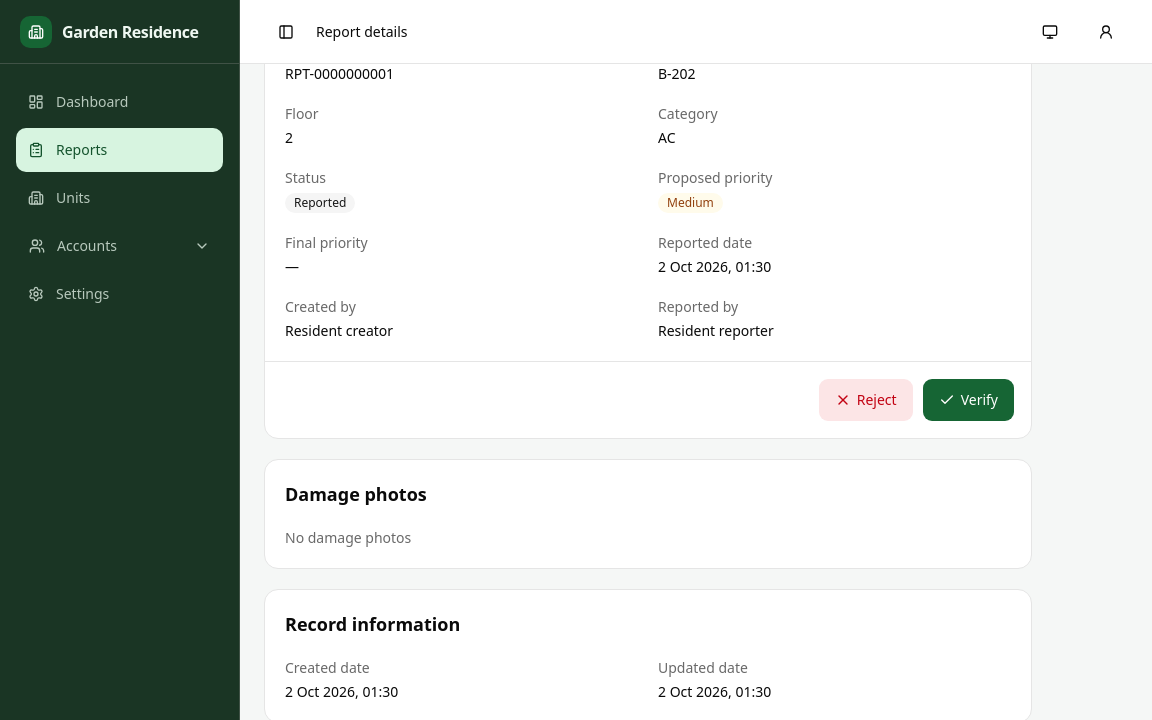
it: submits Reject, updates details, retains source state and focuses the heading
The width and height of the screenshot is (1152, 720).
(page scrolled)
Click the button "Reject" at (866, 400), box [818, 378, 914, 422]
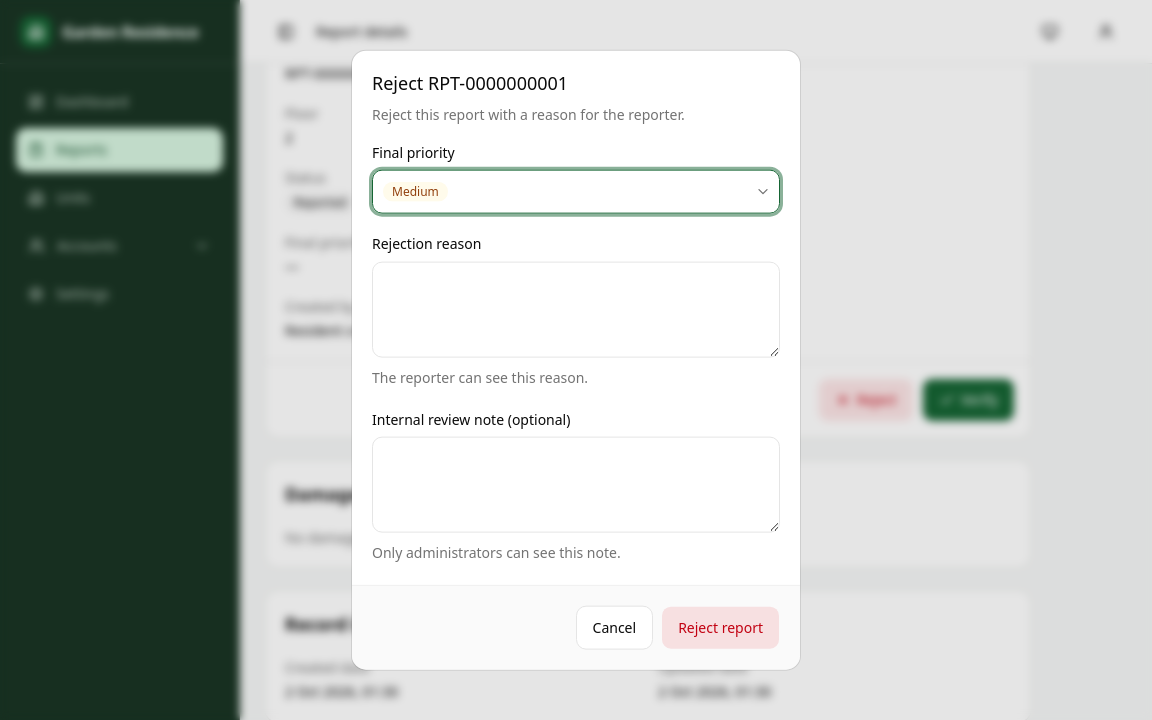
Click the dropdown labelled "Medium ▼" at (415, 192), box [372, 170, 780, 214]
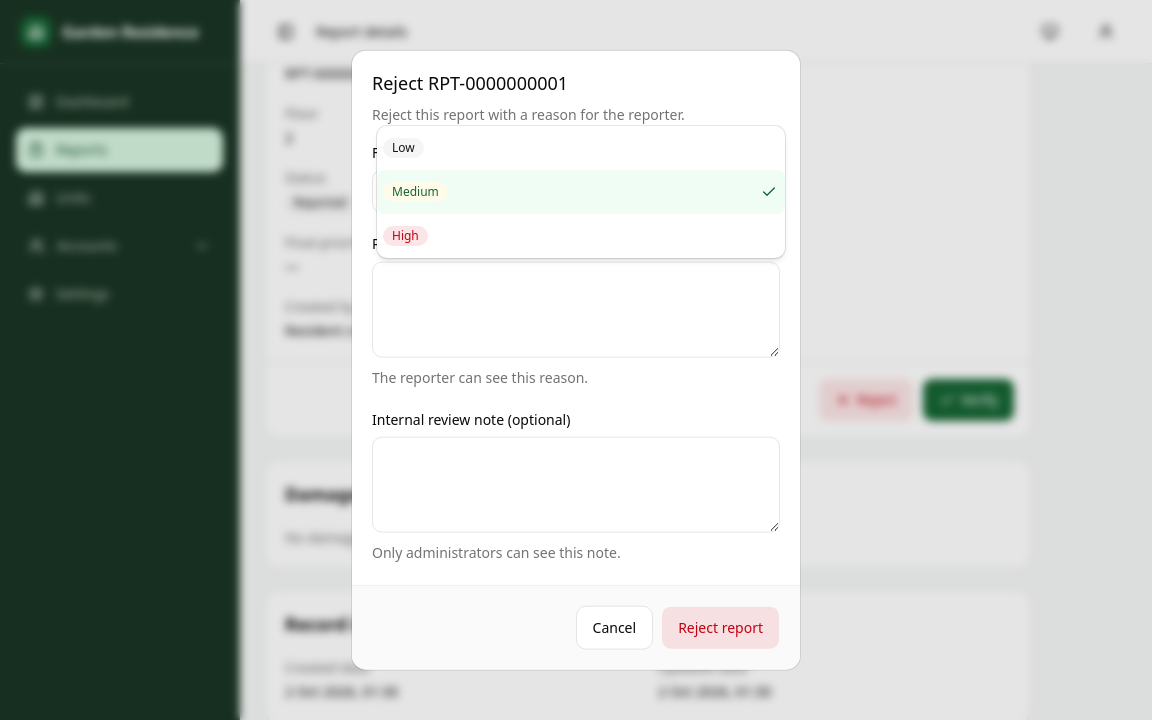
Click the option "High" at (405, 236), box [383, 226, 428, 246]
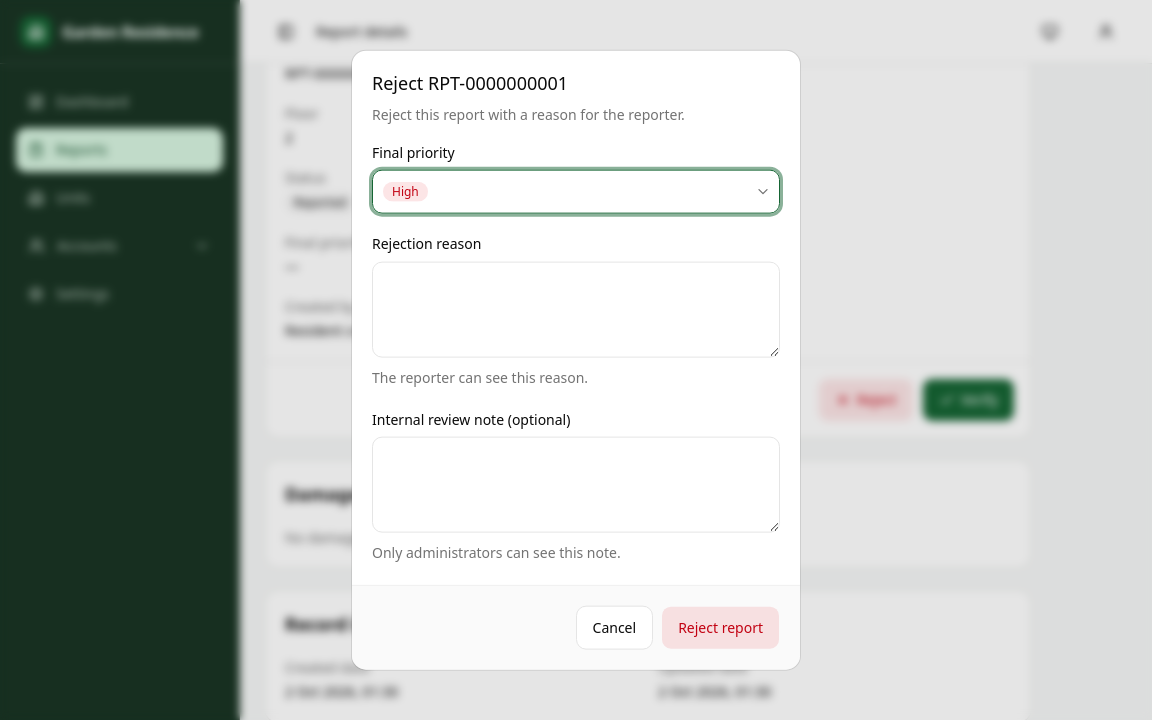
Type "  Duplicate report.  " into the text box labelled "Rejection reason" at (576, 309), box [372, 261, 780, 357]
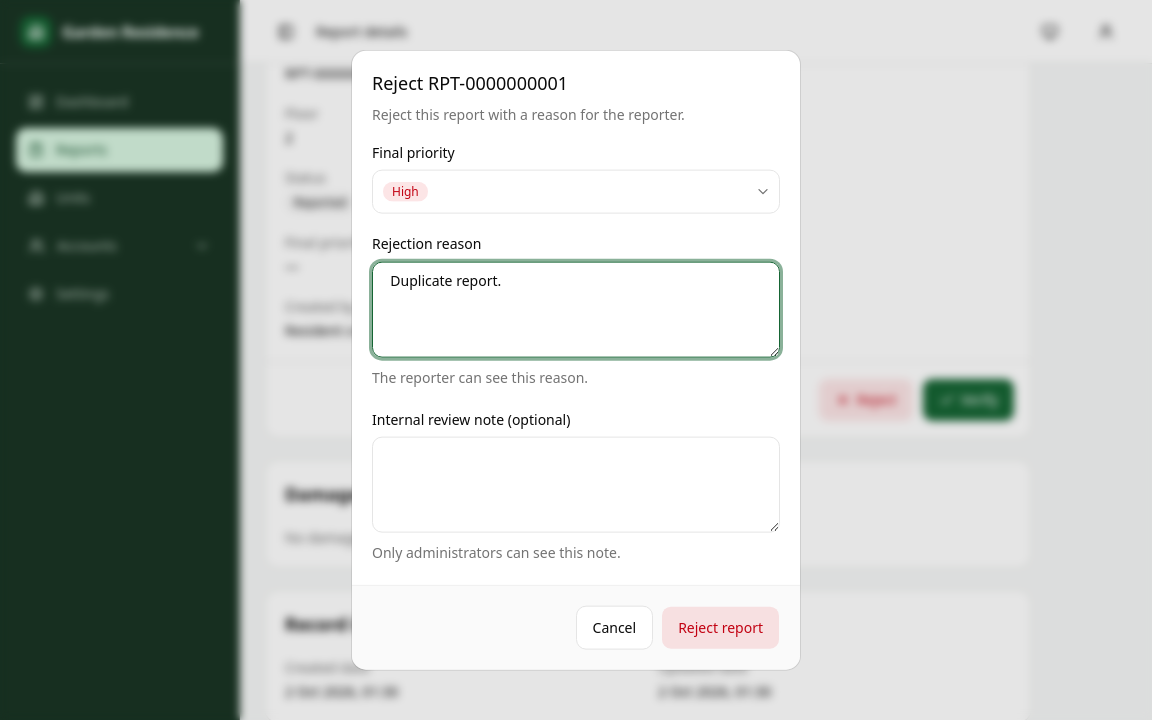
Type "  Internal note.  " into the text box labelled "Internal review note (optional)" at (576, 484), box [372, 436, 780, 532]
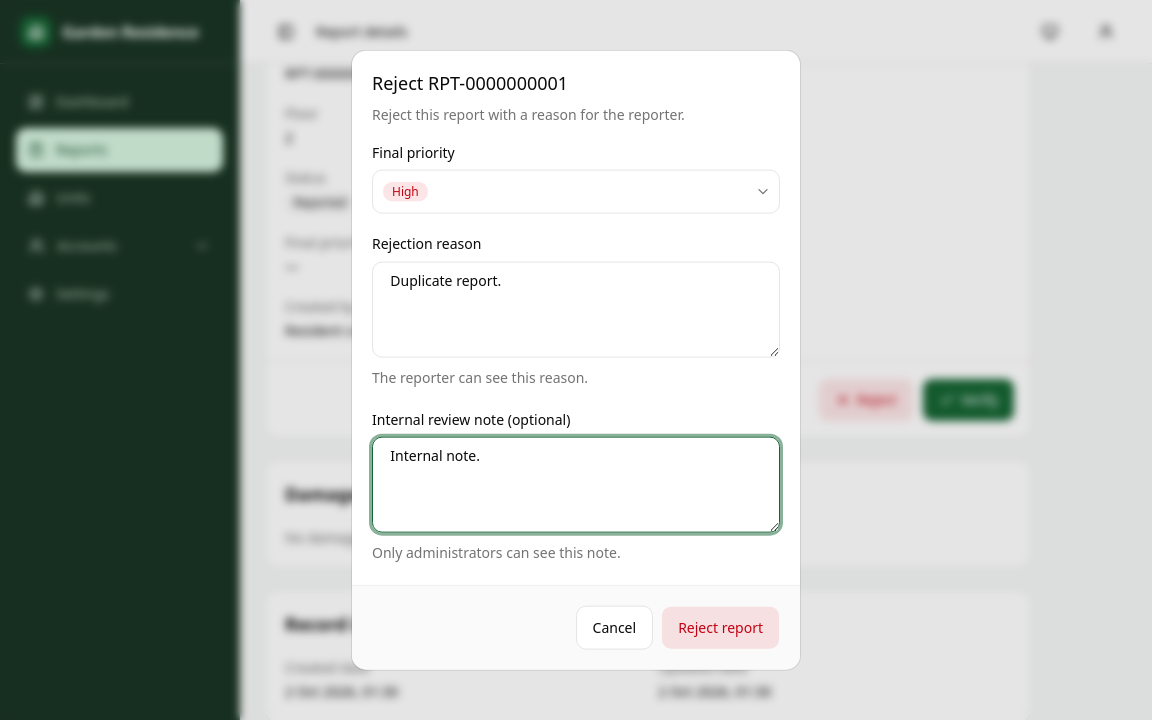
Click the button "Reject report" at (721, 627), box [661, 605, 780, 649]
(page scrolled)
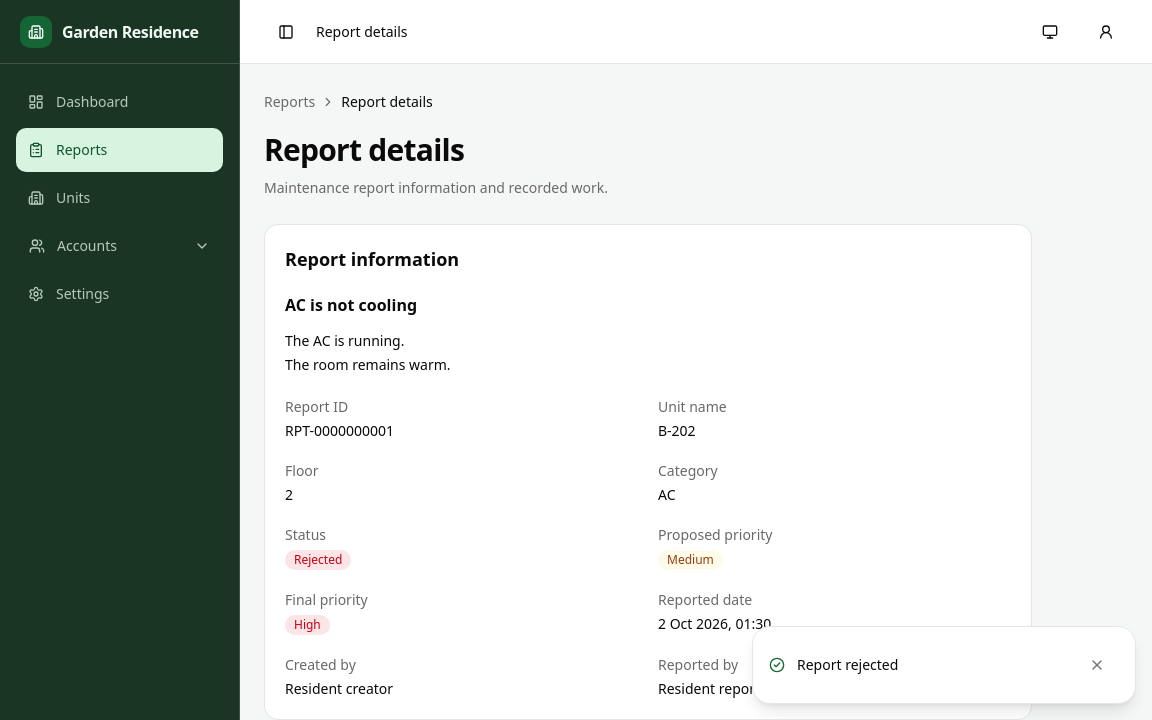
Expected: the heading "Reject RPT-0000000001" is gone
Expected: the text "Rejected" is shown, [285, 550, 351, 570]
Expected: the heading "Report rejected" is shown, [797, 655, 898, 674]
